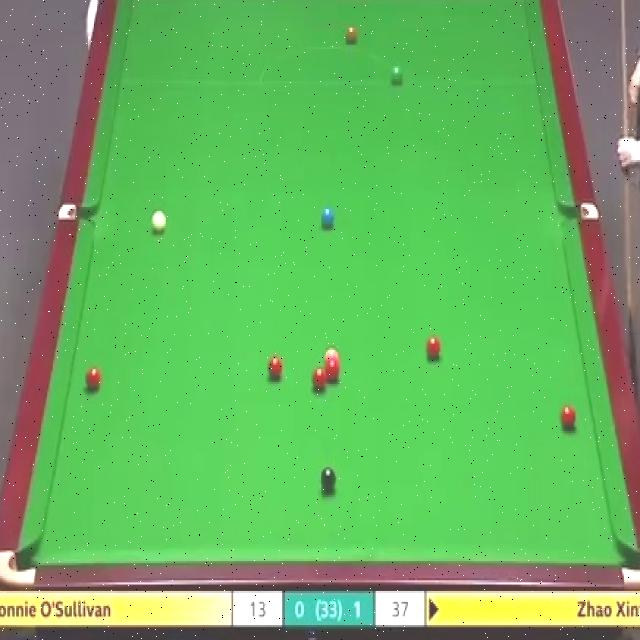black-ball: (320, 464, 338, 494)
blue-ball: (321, 207, 336, 227)
brown-ball: (345, 25, 357, 44)
green-ball: (389, 63, 403, 85)
pink-ball: (323, 346, 341, 365)
red-ball: (85, 364, 102, 394), (558, 403, 578, 428), (266, 357, 284, 380), (426, 334, 442, 359), (312, 368, 328, 392), (324, 363, 339, 380)
white-ball: (150, 208, 168, 235)
